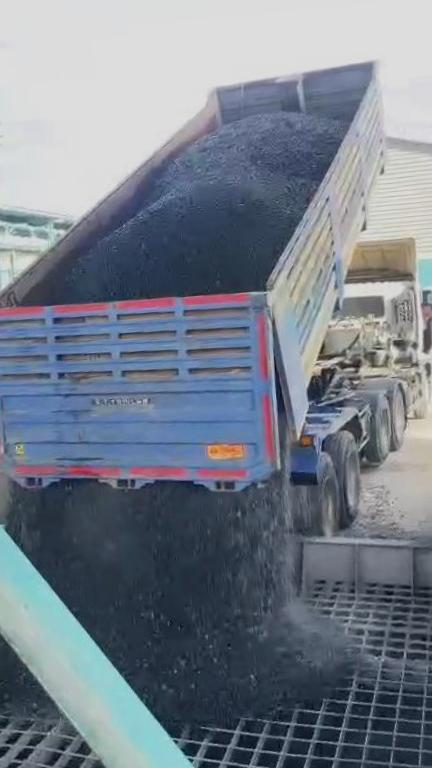gravel: (9, 482, 432, 731), (49, 113, 344, 303), (0, 611, 53, 715)
